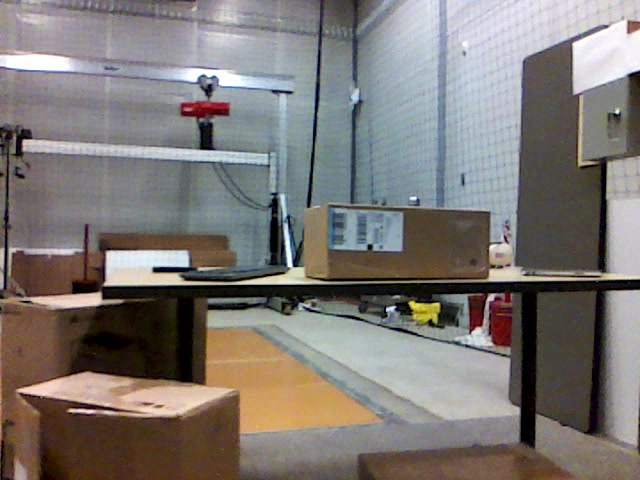box: (1, 299, 205, 480), (17, 372, 242, 480), (304, 204, 489, 279), (359, 444, 578, 480)
